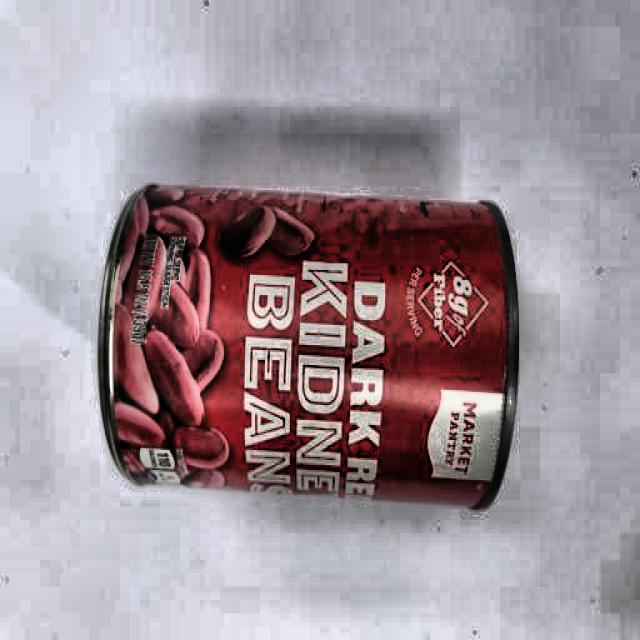metal: (94, 178, 519, 512)
